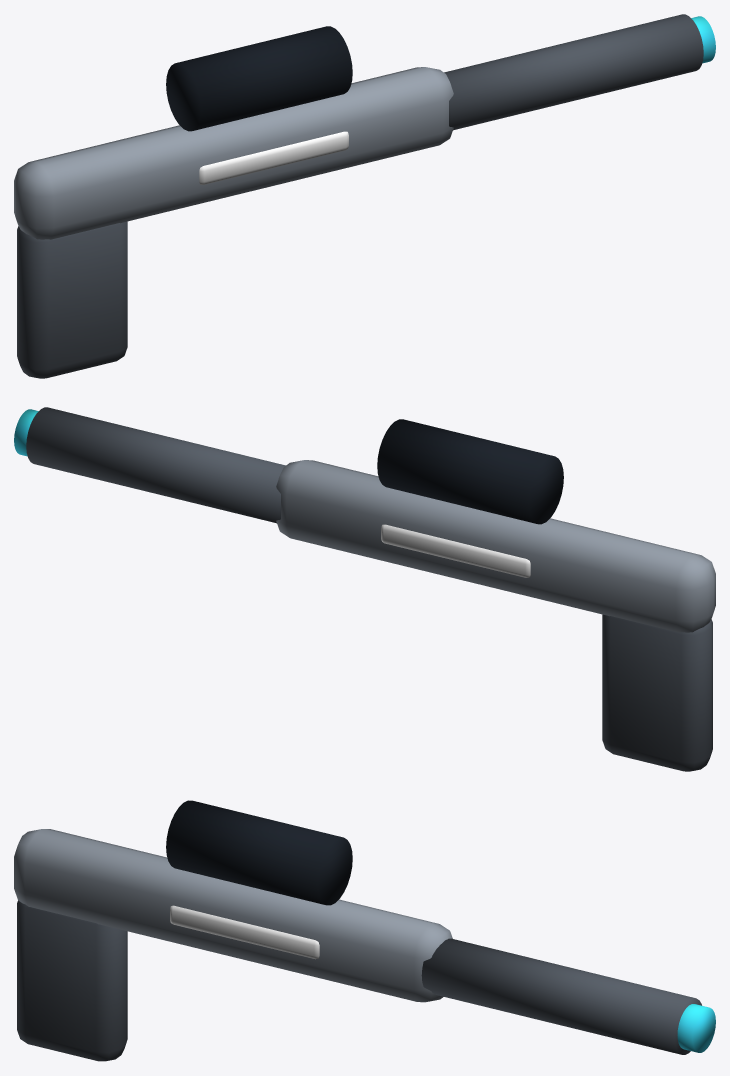
File: rifle_laser.glb
3 views of the same model, one above another, from view 1: azimuth 30°, elevation 25°; view 2: azimuth 150°, elevation 25°; view 3: azimuth 330°, elevation 25° (orthographic).
Visible parts, largest first — view 1: rifle_laser_fijo; view 2: rifle_laser_fijo; view 3: rifle_laser_fijo.
Boxes of the visible parts, x1,y1,x2,y2 form: rifle_laser_fijo: (14,14,715,378); rifle_laser_fijo: (14,407,715,771); rifle_laser_fijo: (14,800,715,1061).
Size of the model in its own units: 1.36 by 0.52 by 0.12.
2 materials, 2 textured.
